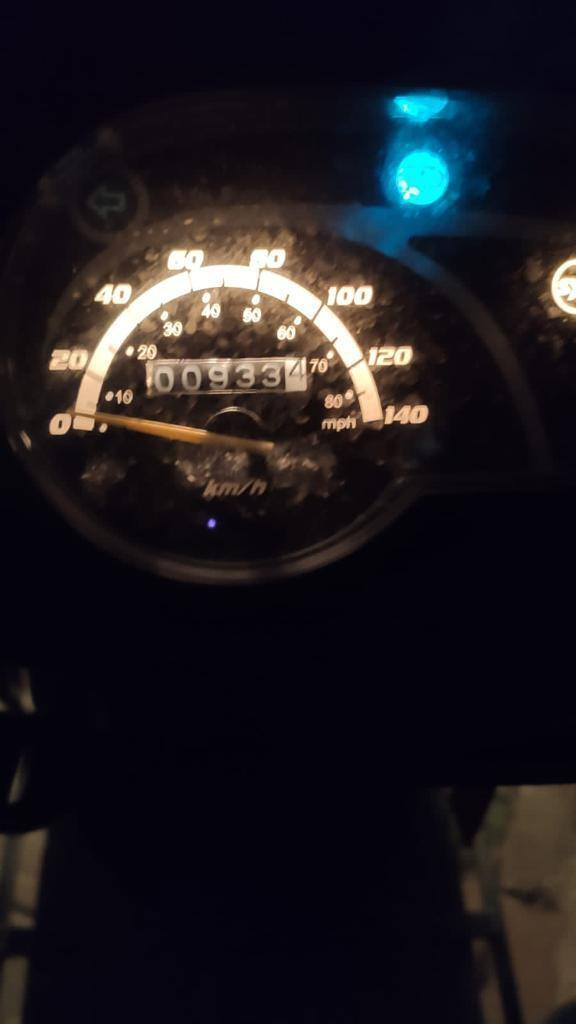0: (180, 362, 202, 392), (154, 364, 175, 392)
3: (235, 361, 256, 390), (261, 361, 281, 389)
4: (288, 358, 306, 381)
9: (208, 363, 231, 390)
odometer: (144, 357, 312, 400)
